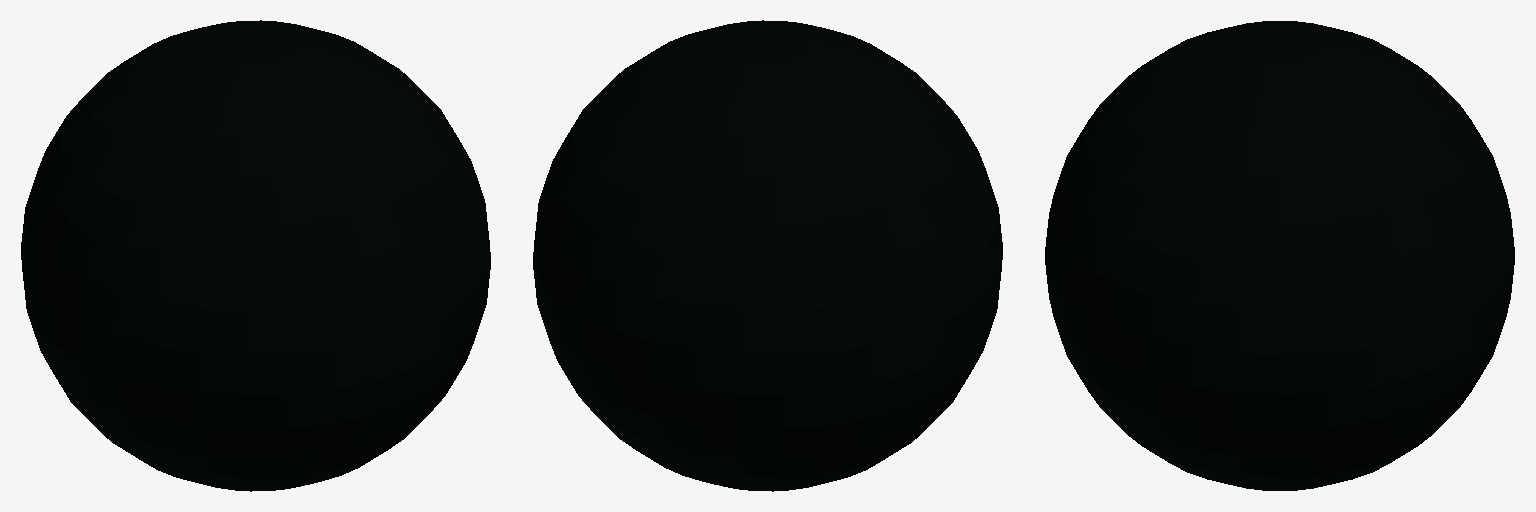
robot.urdf — milling_head:
<?xml version="1.0" ?>
<robot name="milling_head">
  <link name="baseLink">
    <inertial>
      <origin rpy="0 0 0" xyz="0 0 0"/>
       <mass value="0.00000001"/>
       <inertia ixx="0.000001" ixy="0" ixz="0" iyy="0.000001" iyz="0" izz="0.000001"/>
    </inertial>
    <visual>
			<material name="almost_black">
            <color rgba="0.027450980392156862 0.050980392156862744 0.050980392156862744 1.0"/>
      </material>
			<geometry>
				<sphere radius="0.05"/>
			</geometry>
      </visual>
  </link>
 <joint name="milling_trafo" type="fixed">
		<parent link="baseLink"/>
		<child link="tcp"/>
		<origin xyz="0.0 0.0 0.0" rpy="0 -1.57075 0"/>
	</joint>
    <link name="tcp">
    <inertial>
      <origin rpy="0 0 0" xyz="0 0 0"/>
       <mass value="0.00000001"/>
       <inertia ixx="0.000001" ixy="0" ixz="0" iyy="0.000001" iyz="0" izz="0.000001"/>
    </inertial>
	</link>
</robot>

--- Facts derived from the render (not from the file) ---
Views: 3 orthographic renders of the robot side by side, from view 1: azimuth 30°, elevation 25°; view 2: azimuth 150°, elevation 25°; view 3: azimuth 270°, elevation 25°.
Model milling_head with 2 links and 1 joints (1 fixed), rooted at baseLink, posed every joint at zero.
Links seen in each view (by area): view 1: baseLink; view 2: baseLink; view 3: baseLink.
Boxes of the visible links, bbox=[...] form: baseLink: bbox=[21, 20, 490, 491]; baseLink: bbox=[533, 20, 1002, 491]; baseLink: bbox=[1045, 21, 1514, 490].
Size in the robot's own frame: 0.1 by 0.1 by 0.1 metres.
Geometry: primitives only (box / cylinder / sphere), no mesh files.
